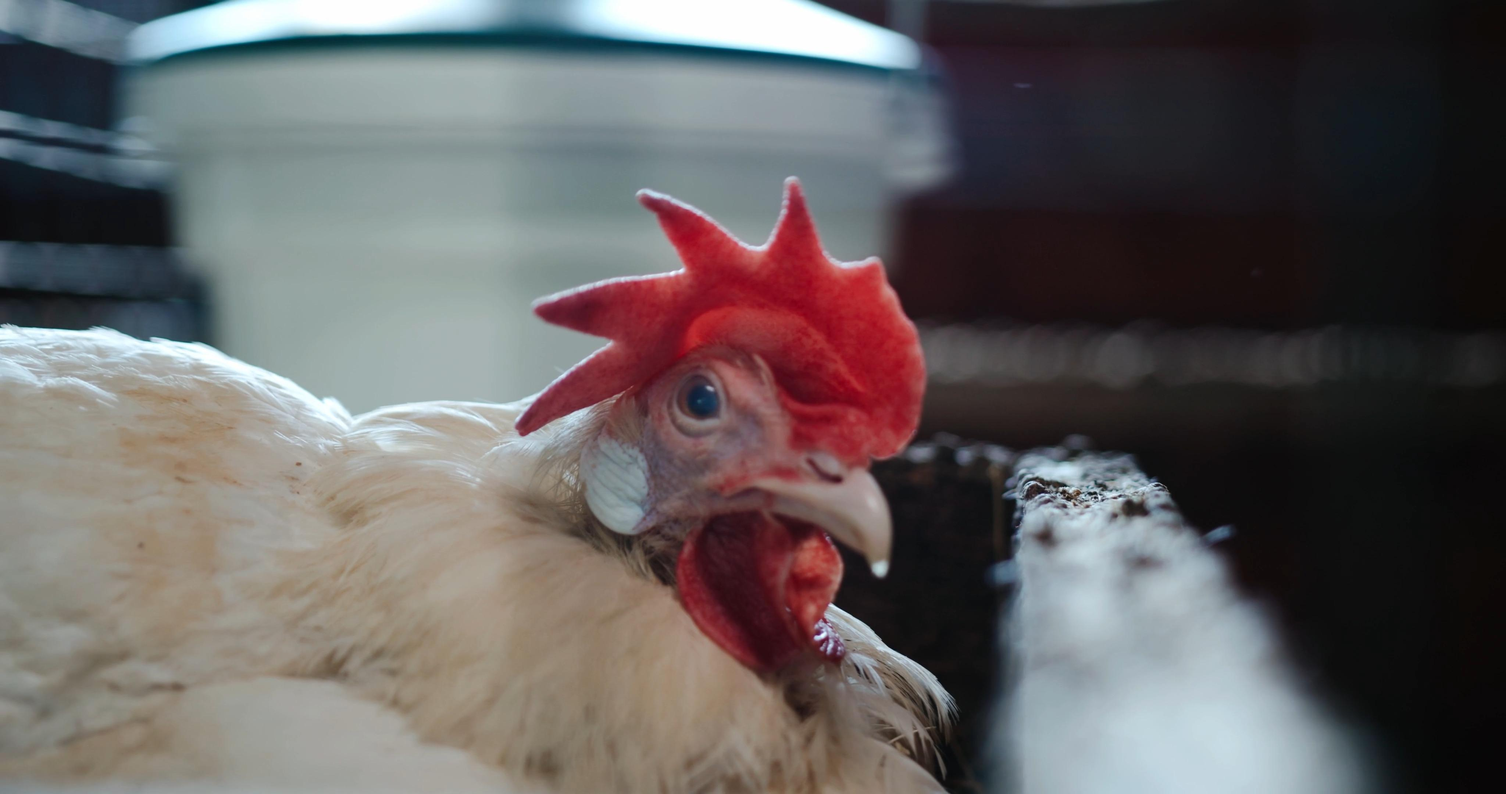Normal: (146, 186, 946, 794)
